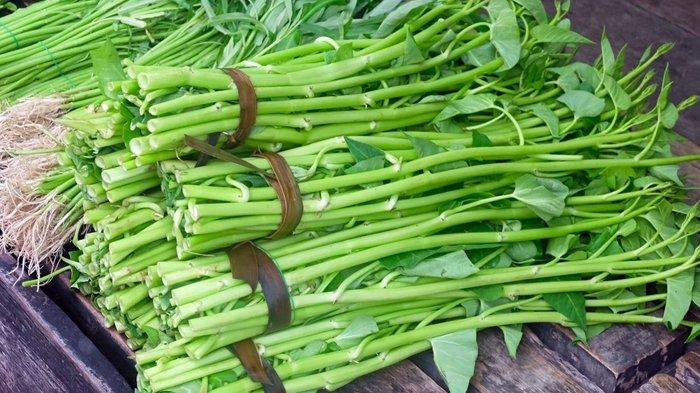Kangkung: (83, 38, 647, 360)
